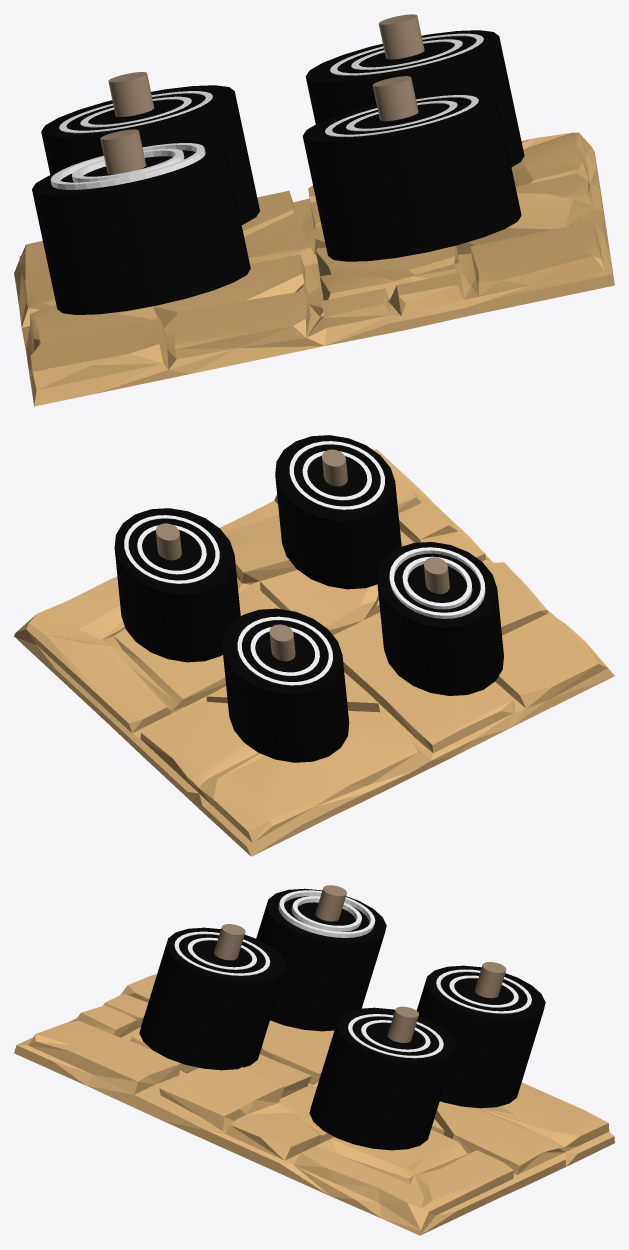
File: landMine.fbx
3 views of the same model, one above another, from view 1: azimuth 30°, elevation 25°; view 2: azimuth 150°, elevation 25°; view 3: azimuth 270°, elevation 25° (orthographic). The views are drawn at different scales.
Visible parts, largest first — view 1: SM_Env_Tiles_01, Cylinder, Cylinder__1_, Cylinder__3_, Cylinder__2_, SM_Icon_SelectionRing_04, Cylinder__7_, Cylinder__4_, Cylinder__6_, Cylinder__5_, SM_Icon_SelectionRing_04__1_, SM_Icon_SelectionRing_04__3_ (+1 smaller); view 2: SM_Env_Tiles_01, Cylinder__2_, Cylinder__3_, Cylinder, Cylinder__1_, SM_Icon_SelectionRing_04, SM_Icon_SelectionRing_04__2_, SM_Icon_SelectionRing_04__3_, SM_Icon_SelectionRing_04__1_, Cylinder__6_, Cylinder__4_, Cylinder__5_ (+1 smaller); view 3: SM_Env_Tiles_01, Cylinder, Cylinder__3_, Cylinder__2_, Cylinder__1_, SM_Icon_SelectionRing_04, SM_Icon_SelectionRing_04__1_, SM_Icon_SelectionRing_04__2_, SM_Icon_SelectionRing_04__3_, Cylinder__4_, Cylinder__5_, Cylinder__7_ (+1 smaller).
Boxes of the visible parts, bbox=[...] form: SM_Env_Tiles_01: bbox=[14, 132, 614, 406]; Cylinder: bbox=[302, 89, 521, 261]; Cylinder__1_: bbox=[32, 143, 250, 314]; Cylinder__3_: bbox=[305, 30, 524, 167]; Cylinder__2_: bbox=[41, 85, 259, 224]; SM_Icon_SelectionRing_04: bbox=[50, 143, 205, 189]; Cylinder__7_: bbox=[378, 14, 424, 59]; Cylinder__4_: bbox=[372, 76, 418, 121]; Cylinder__6_: bbox=[108, 72, 154, 116]; Cylinder__5_: bbox=[100, 129, 146, 174]; SM_Icon_SelectionRing_04__1_: bbox=[59, 91, 212, 133]; SM_Icon_SelectionRing_04__3_: bbox=[330, 33, 483, 75]; SM_Env_Tiles_01: bbox=[14, 449, 614, 856]; Cylinder__2_: bbox=[222, 608, 349, 762]; Cylinder__3_: bbox=[114, 508, 240, 662]; Cylinder: bbox=[275, 435, 401, 589]; Cylinder__1_: bbox=[377, 542, 503, 695]; SM_Icon_SelectionRing_04: bbox=[389, 547, 485, 618]; SM_Icon_SelectionRing_04__2_: bbox=[289, 441, 384, 509]; SM_Icon_SelectionRing_04__3_: bbox=[124, 515, 219, 583]; SM_Icon_SelectionRing_04__1_: bbox=[237, 616, 332, 685]; Cylinder__6_: bbox=[269, 624, 295, 661]; Cylinder__4_: bbox=[322, 449, 347, 486]; Cylinder__5_: bbox=[424, 557, 449, 593]; SM_Env_Tiles_01: bbox=[14, 974, 614, 1235]; Cylinder: bbox=[139, 927, 286, 1070]; Cylinder__3_: bbox=[309, 1007, 456, 1150]; Cylinder__2_: bbox=[416, 965, 545, 1108]; Cylinder__1_: bbox=[256, 888, 386, 1031]; SM_Icon_SelectionRing_04: bbox=[278, 890, 375, 937]; SM_Icon_SelectionRing_04__1_: bbox=[436, 969, 531, 1013]; SM_Icon_SelectionRing_04__2_: bbox=[174, 931, 270, 975]; SM_Icon_SelectionRing_04__3_: bbox=[348, 1014, 443, 1058]; Cylinder__4_: bbox=[214, 924, 245, 960]; Cylinder__5_: bbox=[315, 885, 346, 921]; Cylinder__7_: bbox=[387, 1006, 418, 1042].
Size of the model in its own units: 48.45 by 22.9 by 46.73.
